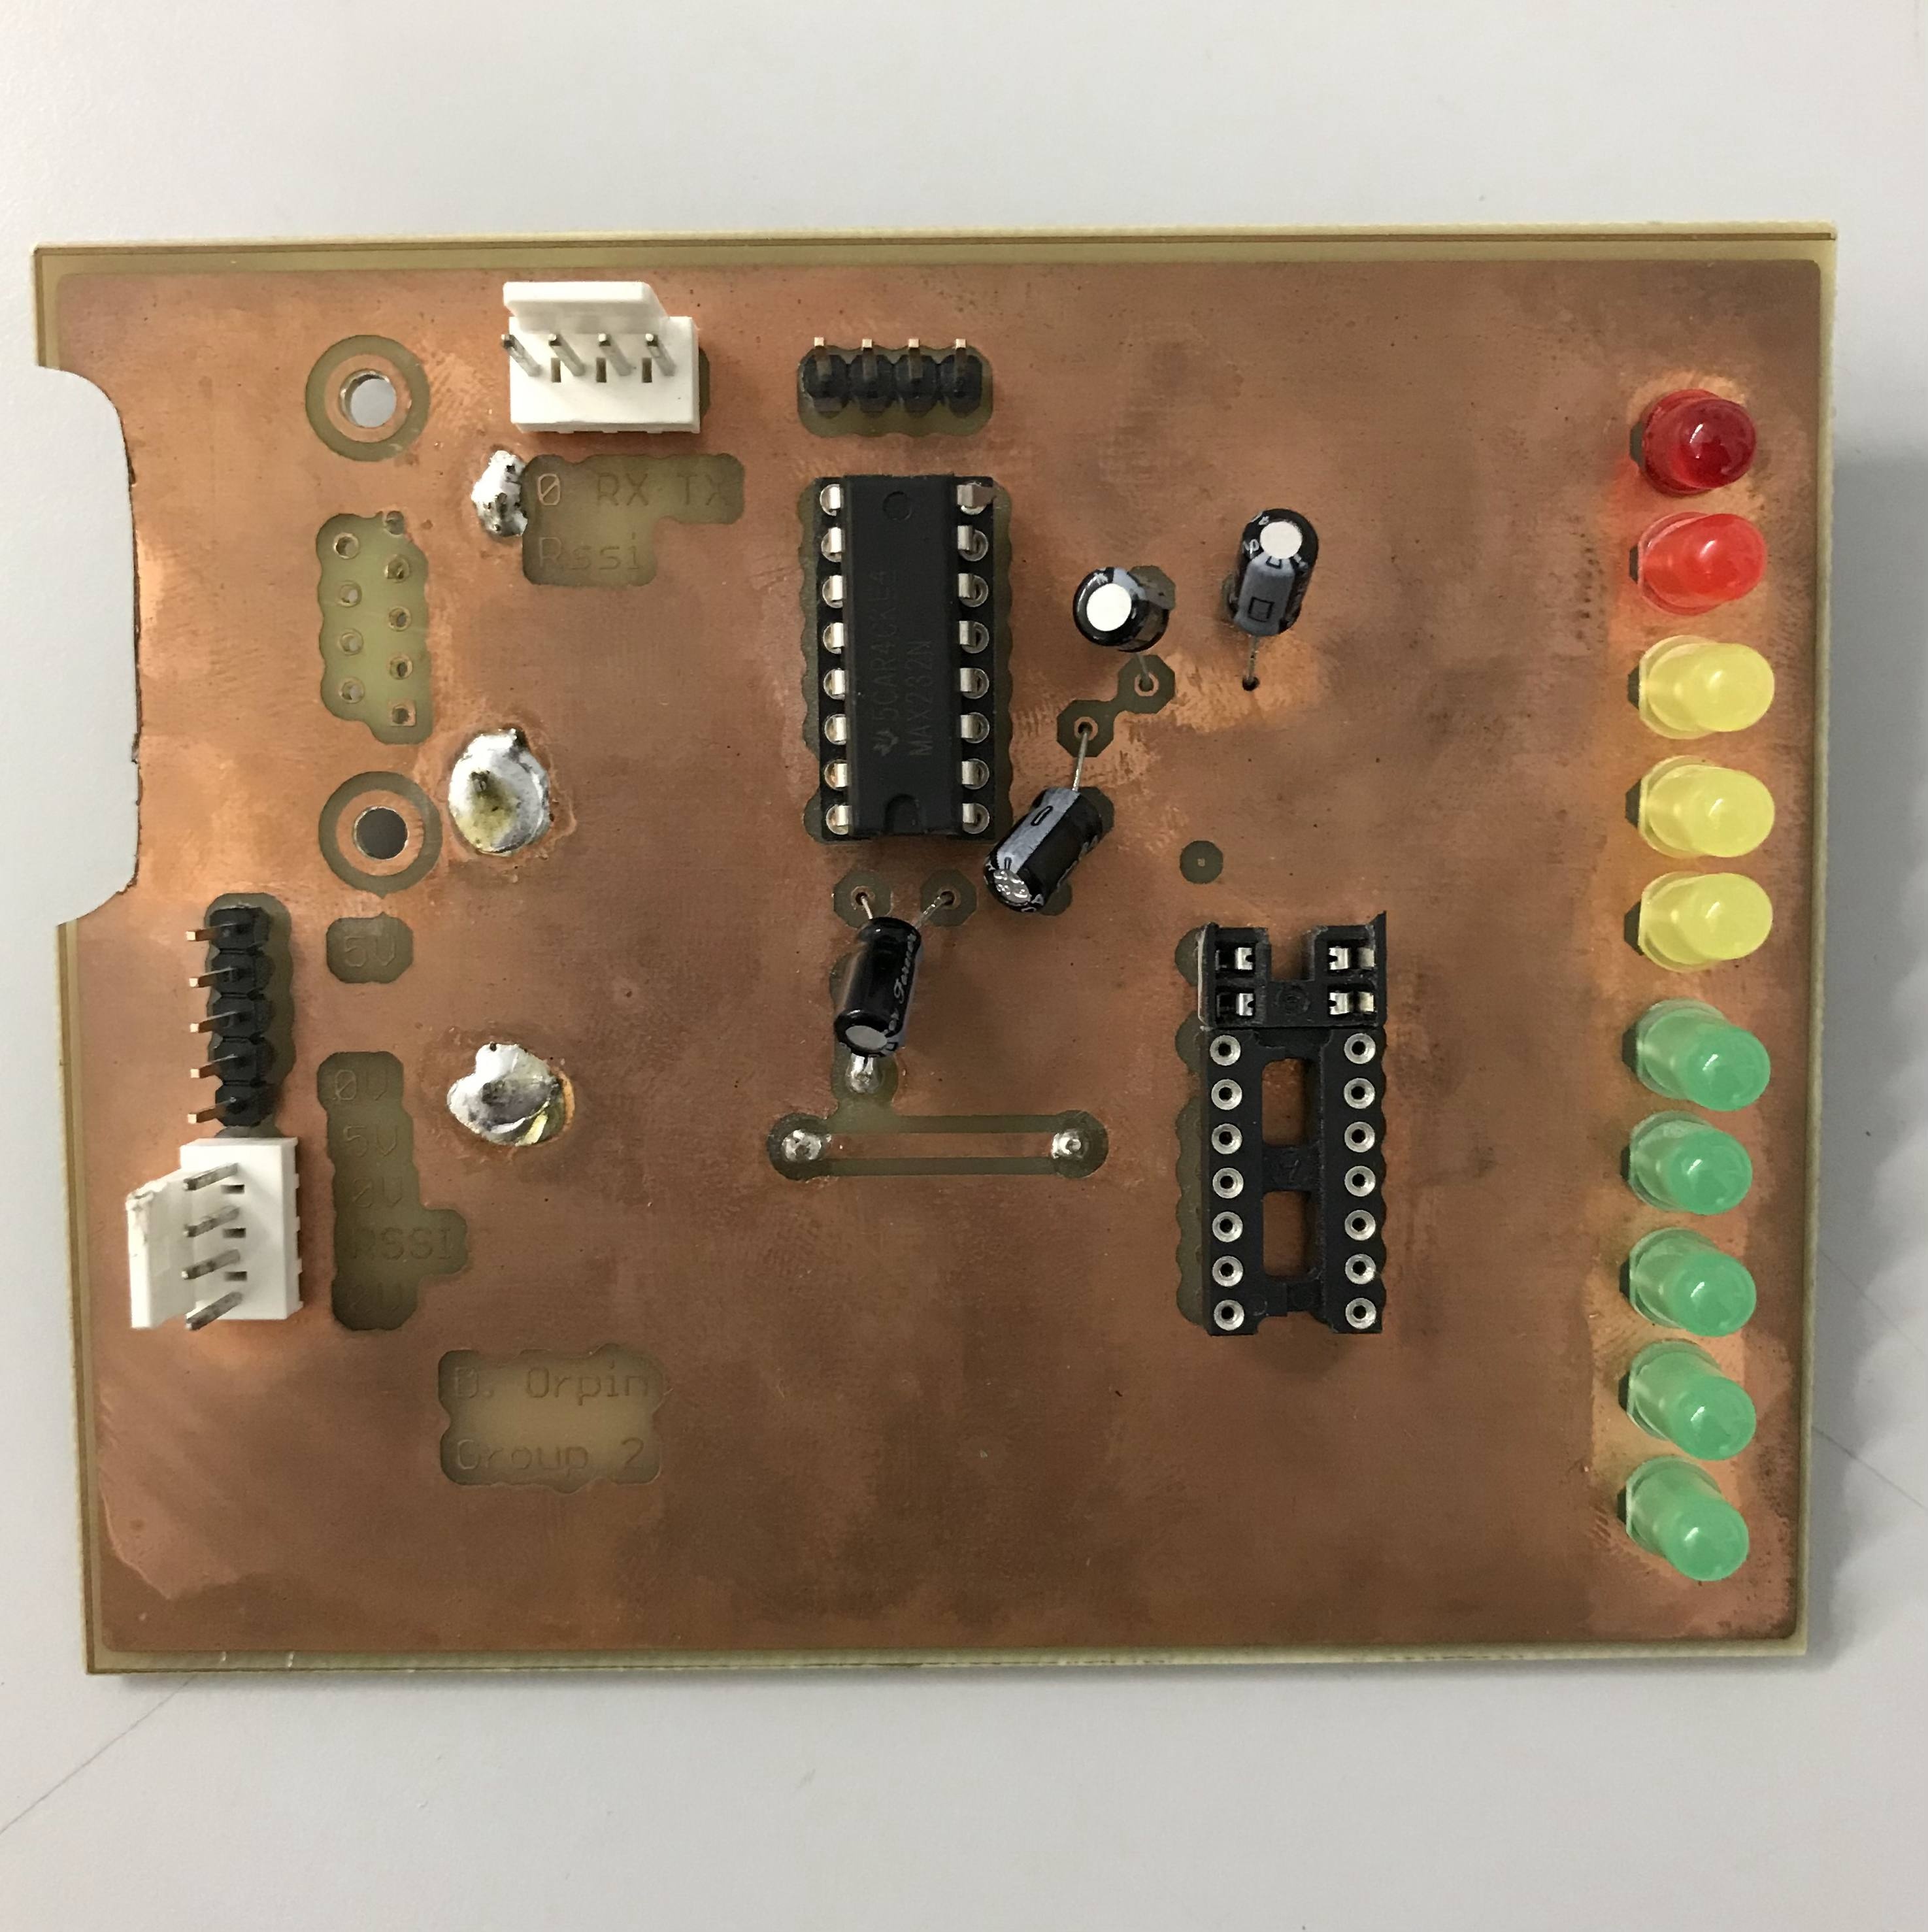Capacitor: (982, 772, 1103, 918), (1218, 502, 1324, 657), (826, 909, 929, 1068), (1068, 555, 1174, 662)
LED: (1619, 1335, 1778, 1466), (1621, 1453, 1757, 1588), (1630, 627, 1781, 745), (1619, 1224, 1769, 1340), (1631, 751, 1781, 865), (1633, 996, 1776, 1116), (1628, 505, 1773, 620), (1633, 869, 1783, 978), (1631, 376, 1764, 498), (1621, 1107, 1759, 1219)
